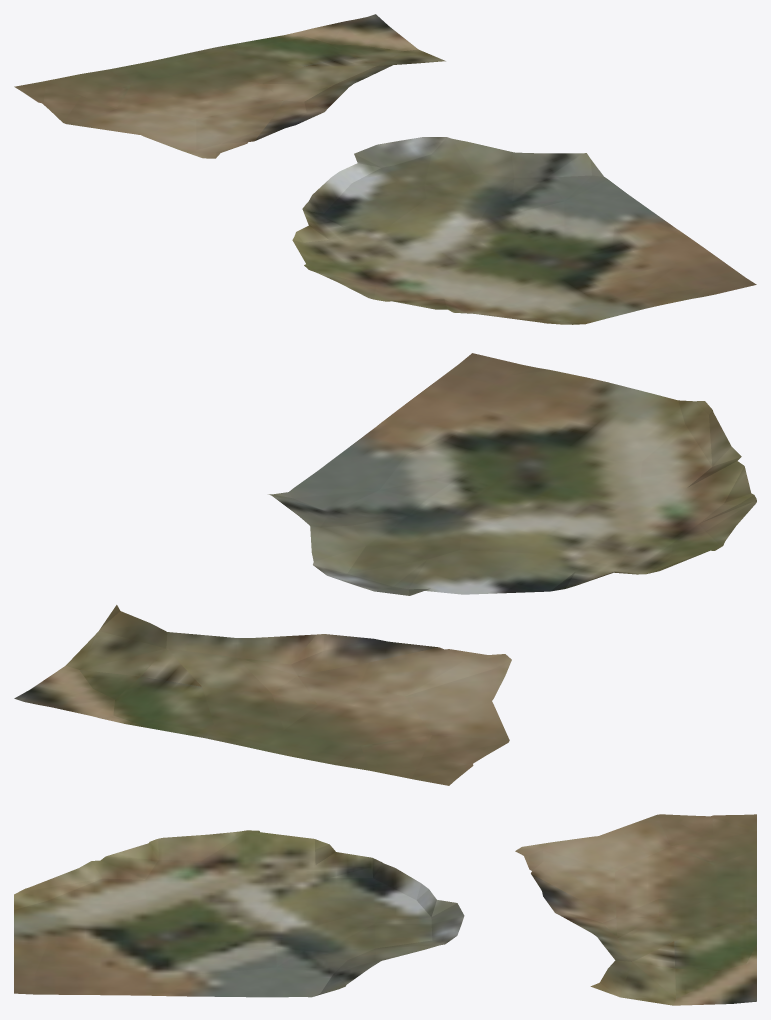
3 views of the same model, one above another, from view 1: azimuth 30°, elevation 25°; view 2: azimuth 150°, elevation 25°; view 3: azimuth 270°, elevation 25° (orthographic). The views are drawn at different scales.
Size of the model in its own units: 28.64 by 1.49 by 52.22.
Materials: 1 (1 with a texture image).
